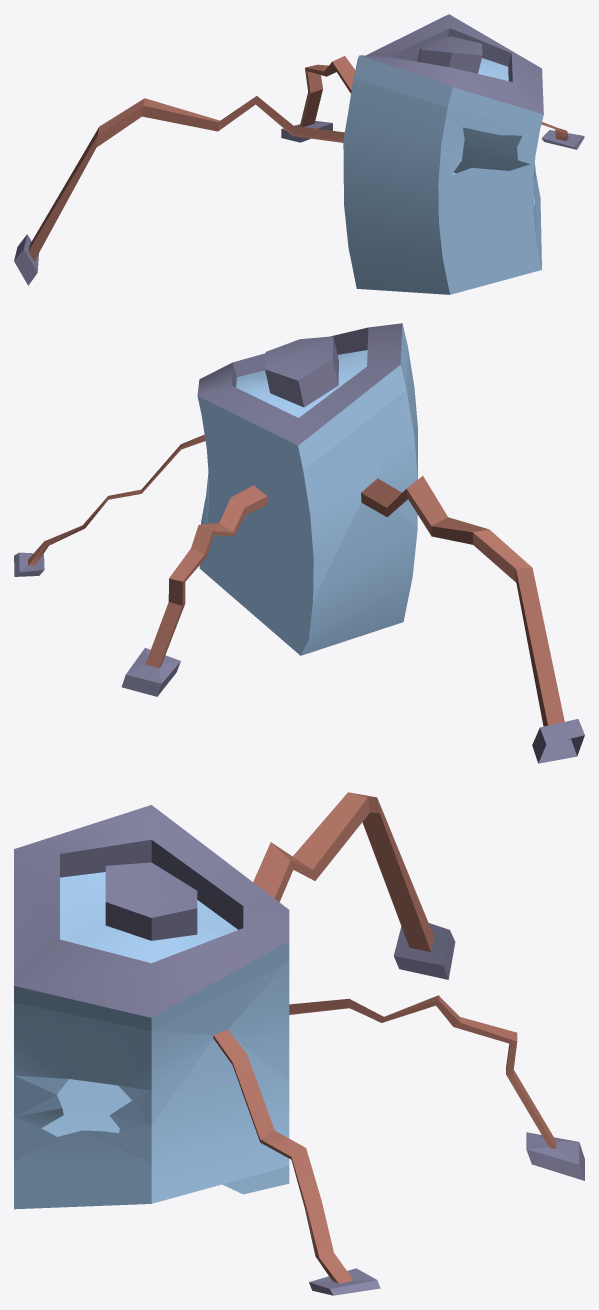
Rendered from TrashMedium.fbx.
3 renders of one model, top to bottom at view 1: azimuth 30°, elevation 25°; view 2: azimuth 150°, elevation 25°; view 3: azimuth 270°, elevation 25°, orthographic. The views are drawn at different scales.
Parts seen in each view (by area): view 1: pCylinder3; view 2: pCylinder3; view 3: pCylinder3.
Part boxes in pixels (box(x1,y1,x2,y2)): pCylinder3: box(14, 14, 584, 294); pCylinder3: box(14, 323, 584, 763); pCylinder3: box(14, 792, 584, 1295).
Bounding box in the file's own units: 574 × 242 × 359.
